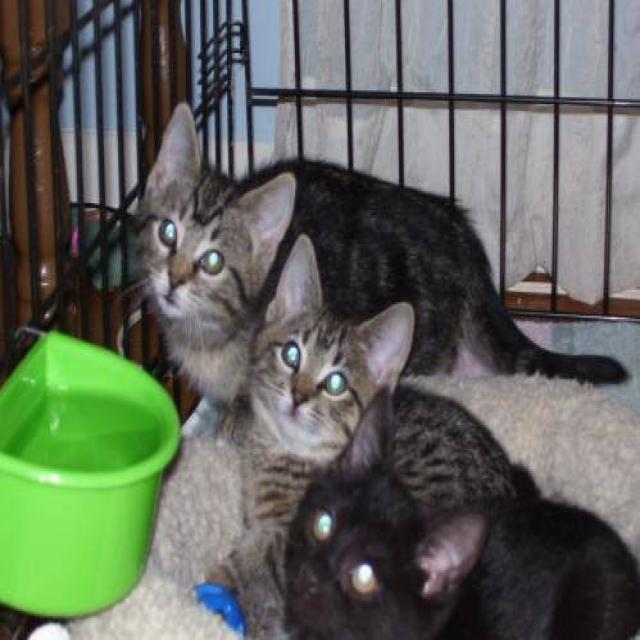cat: (127, 99, 631, 428)
